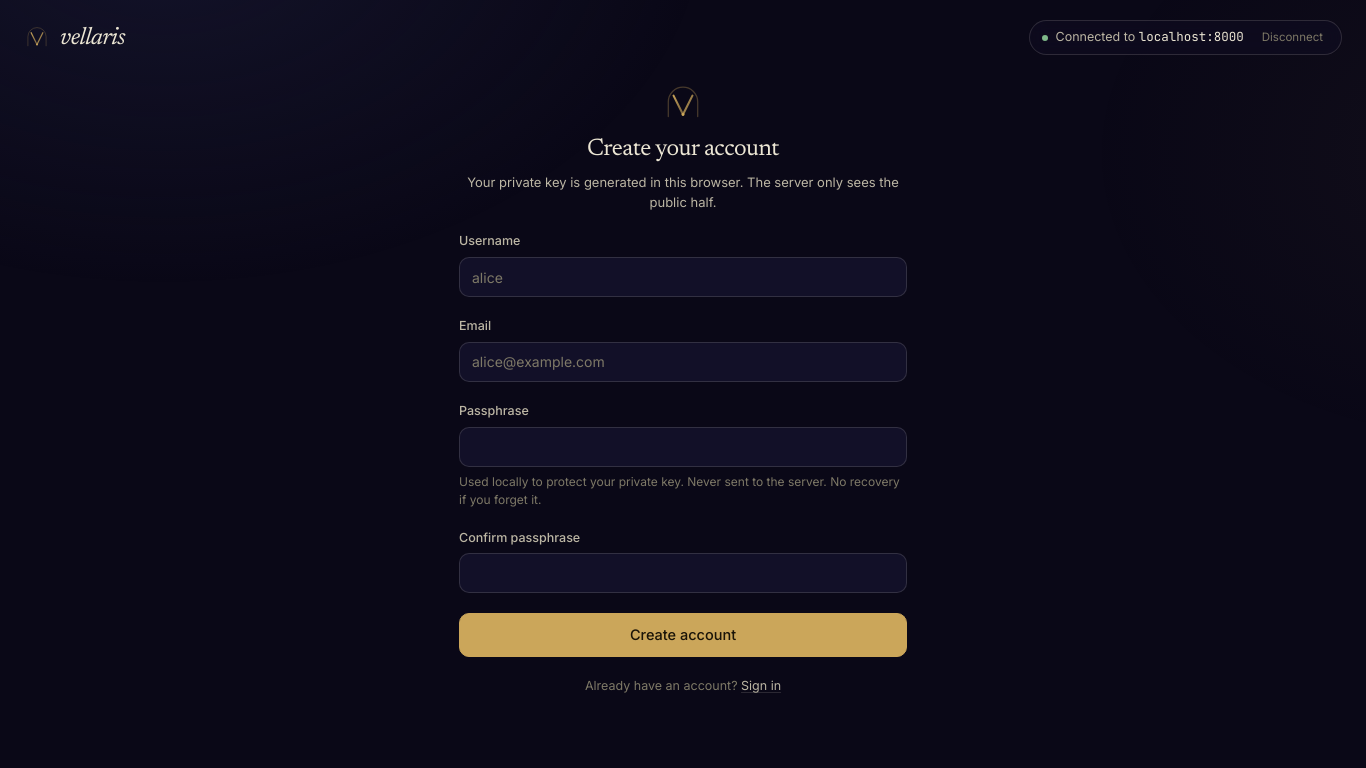
Test: <SignupRoute /> › rejects an invalid username before any crypto runs
Type "no spaces!" into the field with test id "signup-username".
click(683, 277); type("no spaces!")  # box [459,257,907,297]
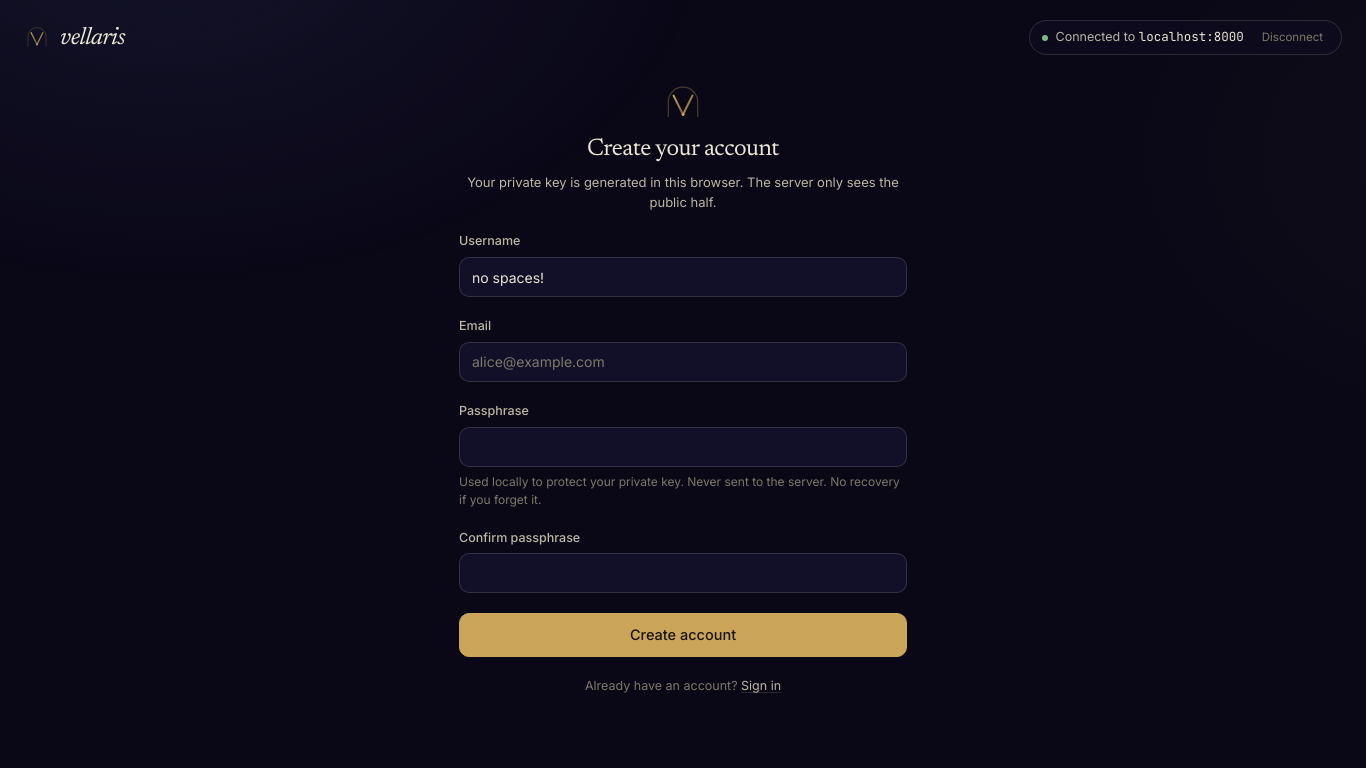
Type "a@b.co" into the field with test id "signup-email".
click(683, 362); type("a@b.co")  # box [459,342,907,382]
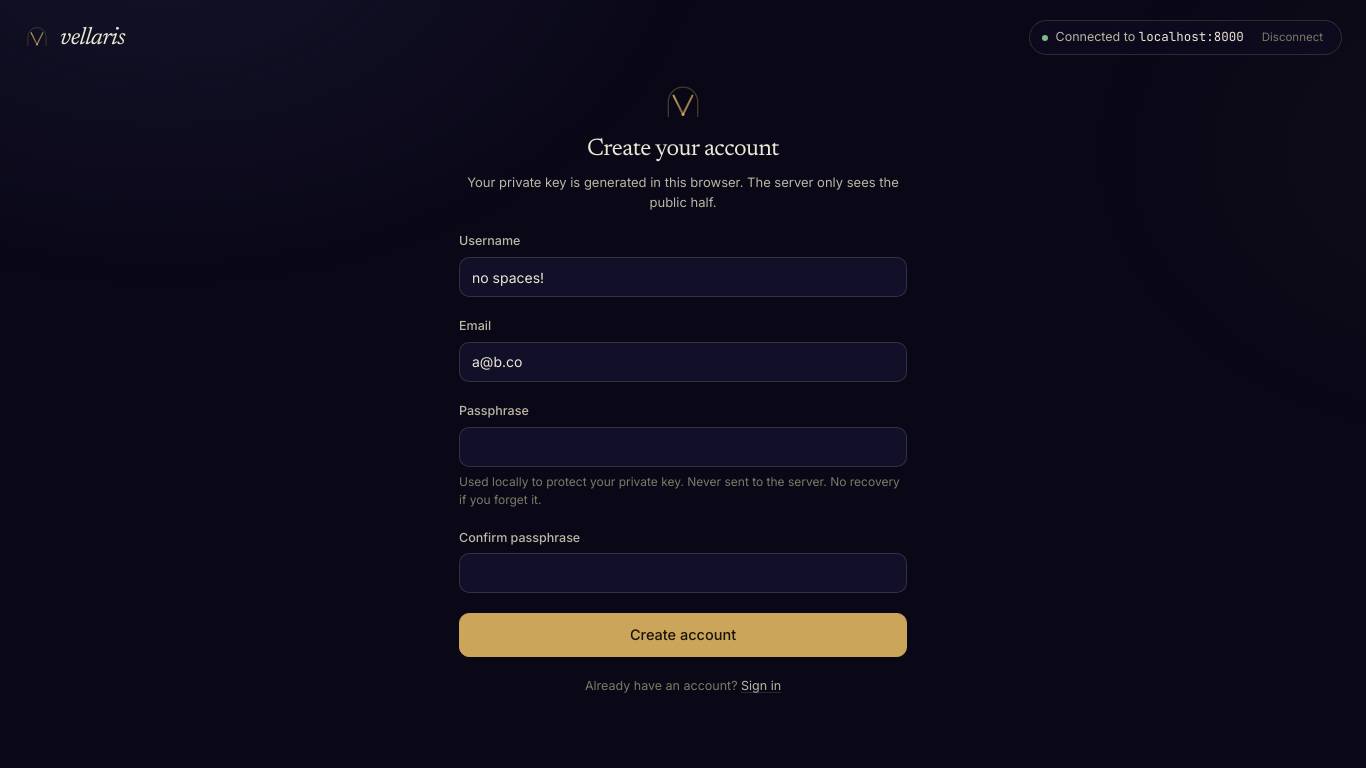
Type "longenough" into the password field with test id "signup-passphrase".
click(683, 446); type("longenough")  # box [459,426,907,466]
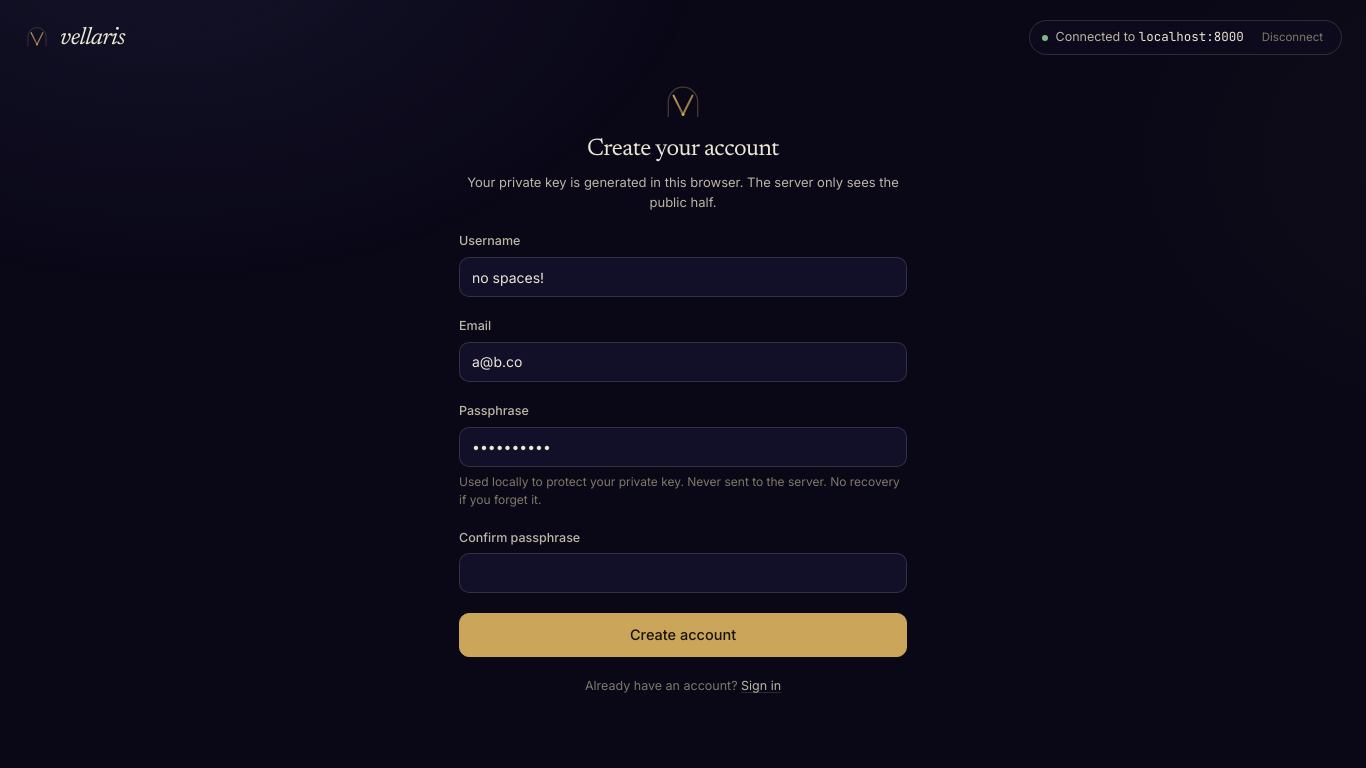
Type "longenough" into the password field with test id "signup-confirm".
click(683, 573); type("longenough")  # box [459,553,907,593]
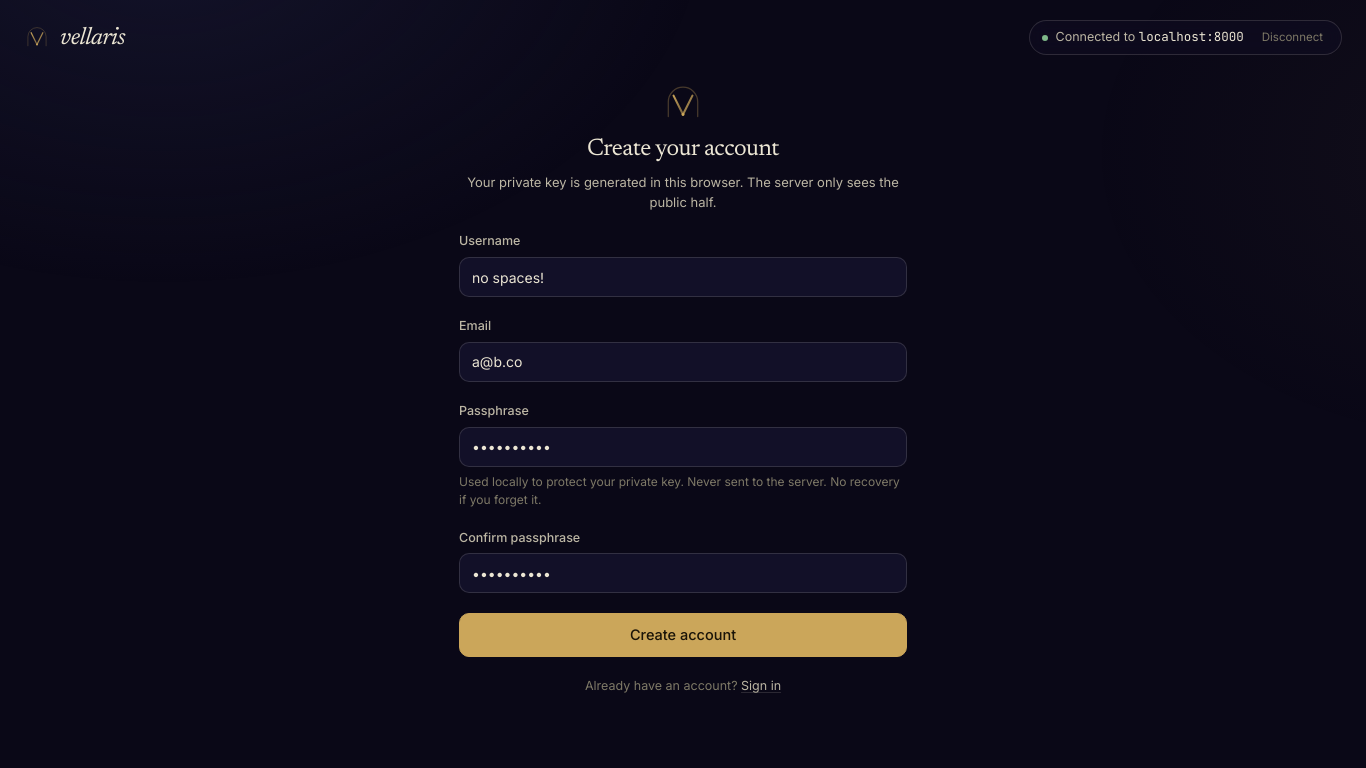
Submit the form with test id "signup-submit", box [459,83,907,696]
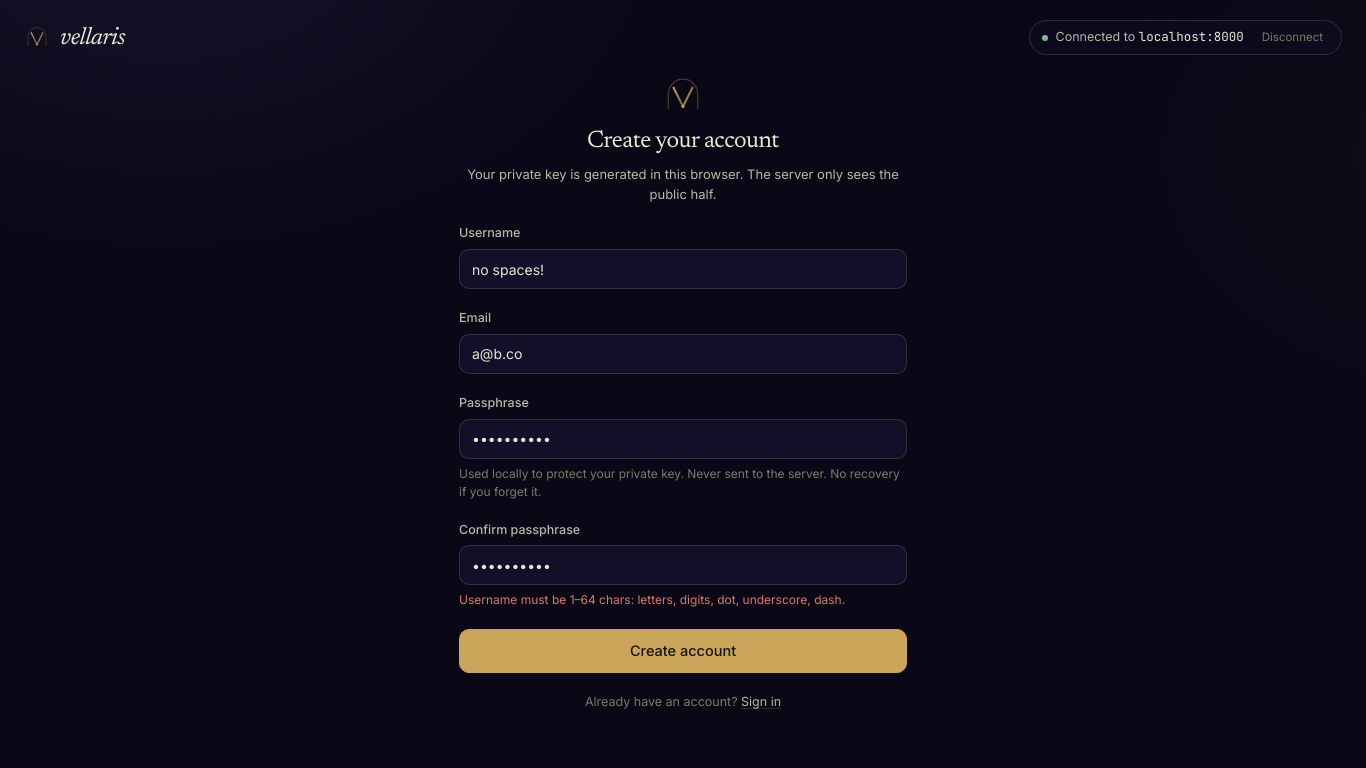
Expected: the text "Username must be 1–64 chars" is shown, [459,592,845,607]
